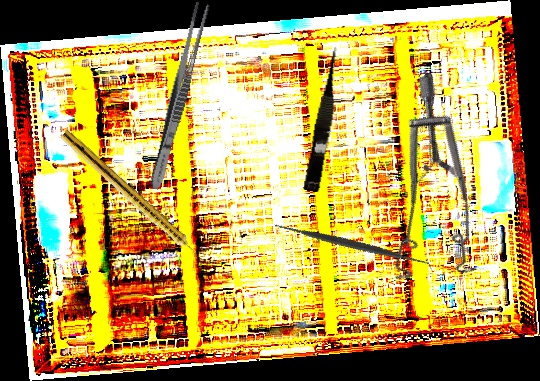Dressing Forceps: (146, 0, 211, 192)
Handpiece: (57, 128, 204, 264)
Micro Scissor: (302, 45, 348, 194)
Spatula Surgical: (270, 162, 434, 327)
Speculum: (313, 70, 529, 308)
